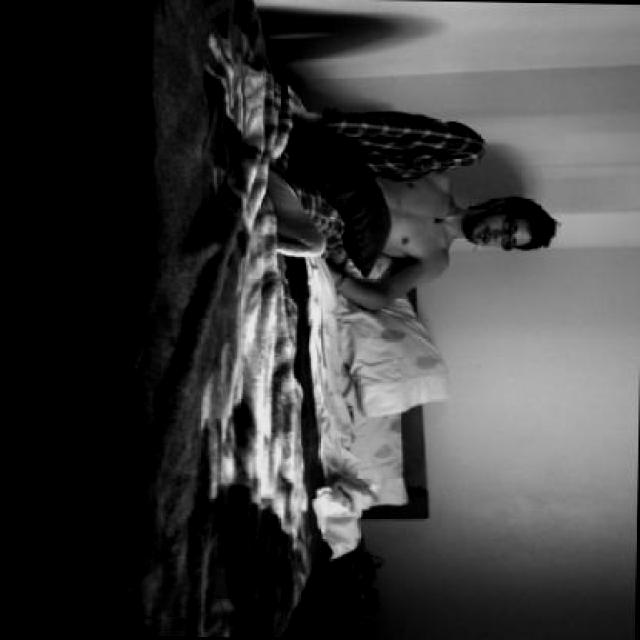cigarette: (470, 239, 484, 252)
